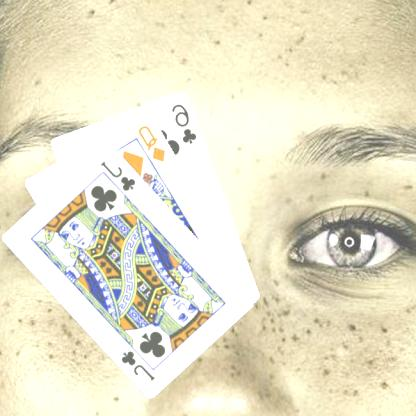6C: (171, 100, 200, 144)
JC: (99, 158, 139, 193), (119, 347, 158, 382)
QD: (137, 122, 169, 163)
